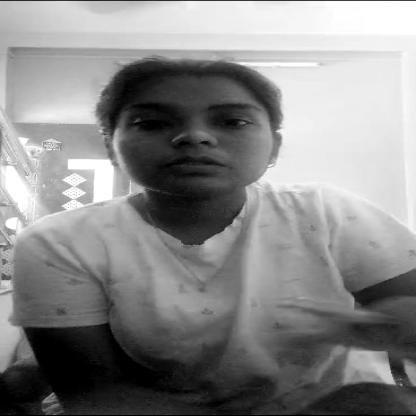Normal: (105, 71, 278, 192)
